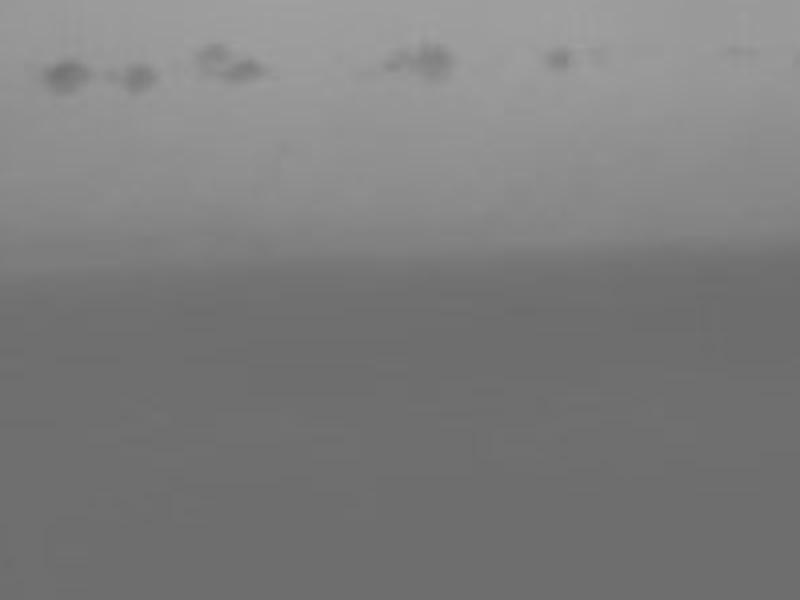defect: (411, 42, 453, 83), (46, 60, 88, 92), (126, 62, 160, 97), (219, 59, 265, 82), (195, 42, 228, 66), (545, 42, 573, 69), (382, 48, 408, 70), (104, 63, 126, 82)
